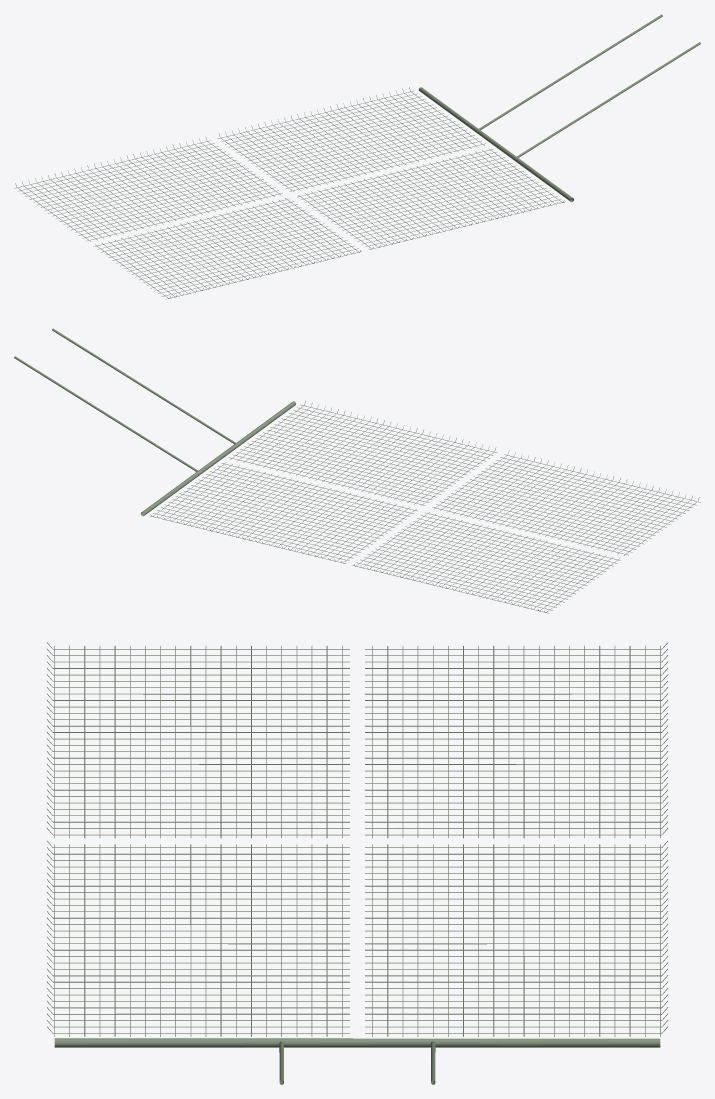
The model's file is harrow.dae.
The picture shows the model from 3 angles, top to bottom: view 1: azimuth 30°, elevation 25°; view 2: azimuth 150°, elevation 25°; view 3: azimuth 270°, elevation 25°; orthographic projection. The views are drawn at different scales.
Parts seen in each view (by area): view 1: tension_spreader_001; view 2: tension_spreader_001; view 3: tension_spreader_001.
Part boxes in pixels (x1,y1,x2,y2): tension_spreader_001: [14, 14, 700, 299]; tension_spreader_001: [14, 328, 700, 613]; tension_spreader_001: [46, 642, 668, 1084].
Size of the model in its own units: 18.05 by 8.21 by 2.14.
